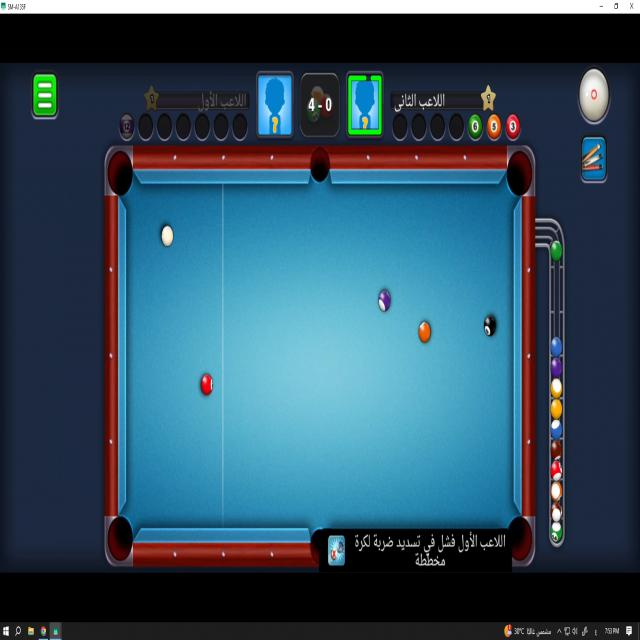object_ball: (201, 374, 212, 395), (419, 322, 430, 343), (379, 291, 390, 311), (484, 316, 495, 335)
white_cue_ball: (161, 226, 173, 247)
